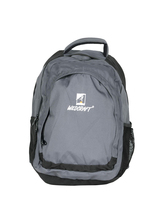bag: (26, 36, 137, 187)
